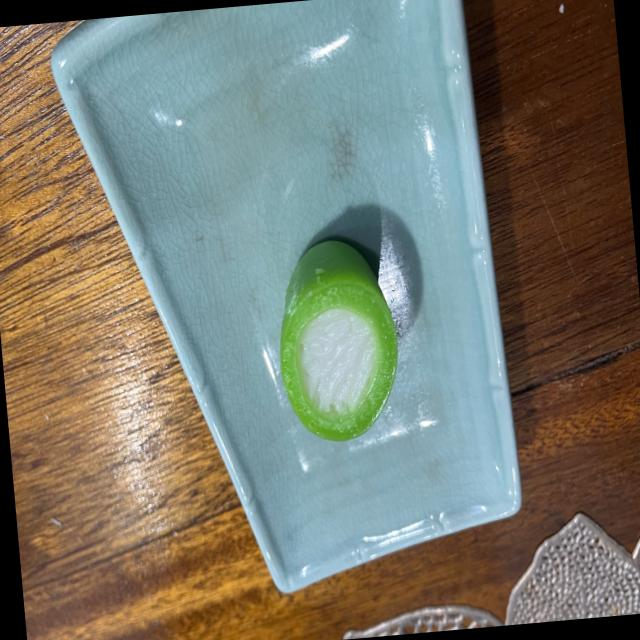nona-manis: (280, 240, 398, 441)
